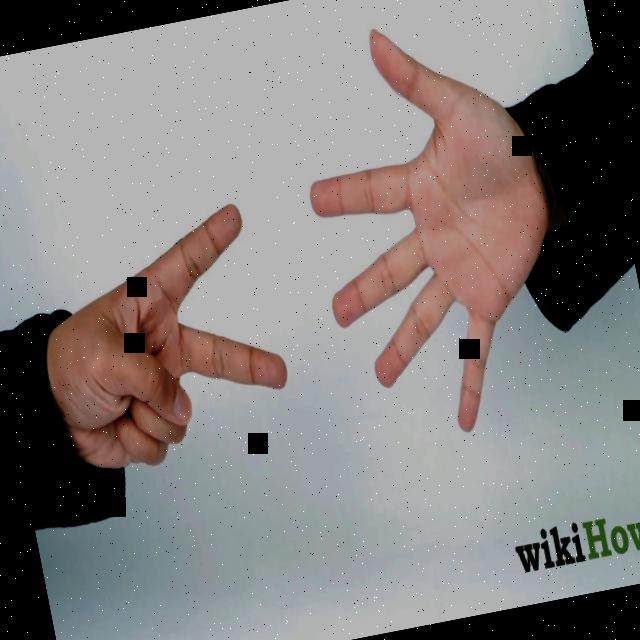Paper: (280, 3, 592, 457)
Scissors: (26, 196, 300, 486)
